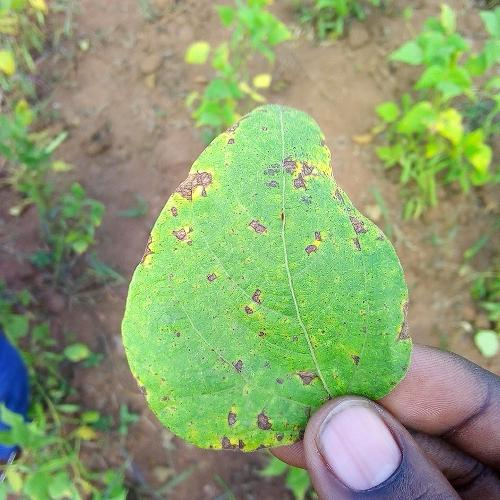hawar: (247, 139, 331, 229), (155, 165, 221, 256), (220, 280, 286, 336), (204, 410, 284, 454), (298, 222, 372, 268), (275, 360, 336, 392)
